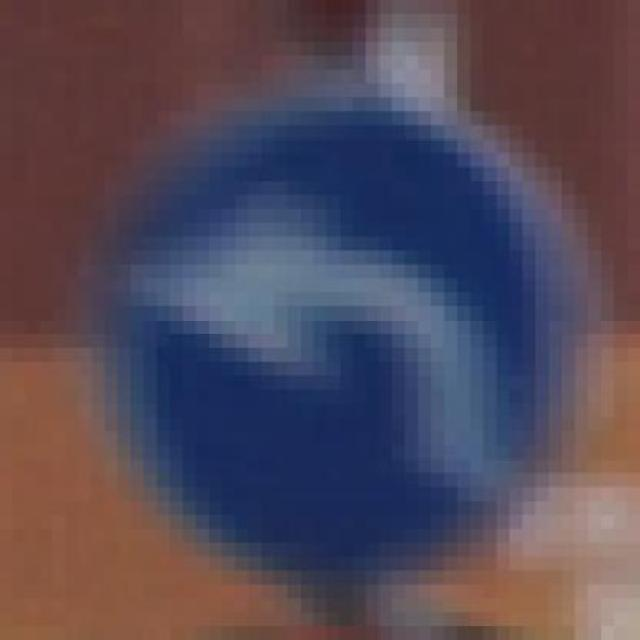Turn left ahead: (78, 83, 588, 612)
